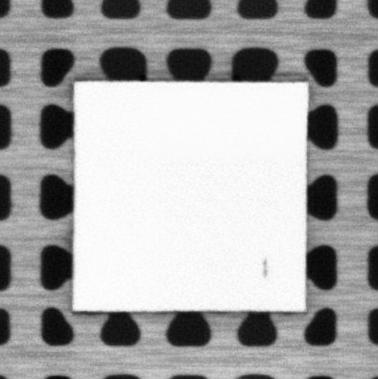DIE_INK: (260, 256, 269, 277)
